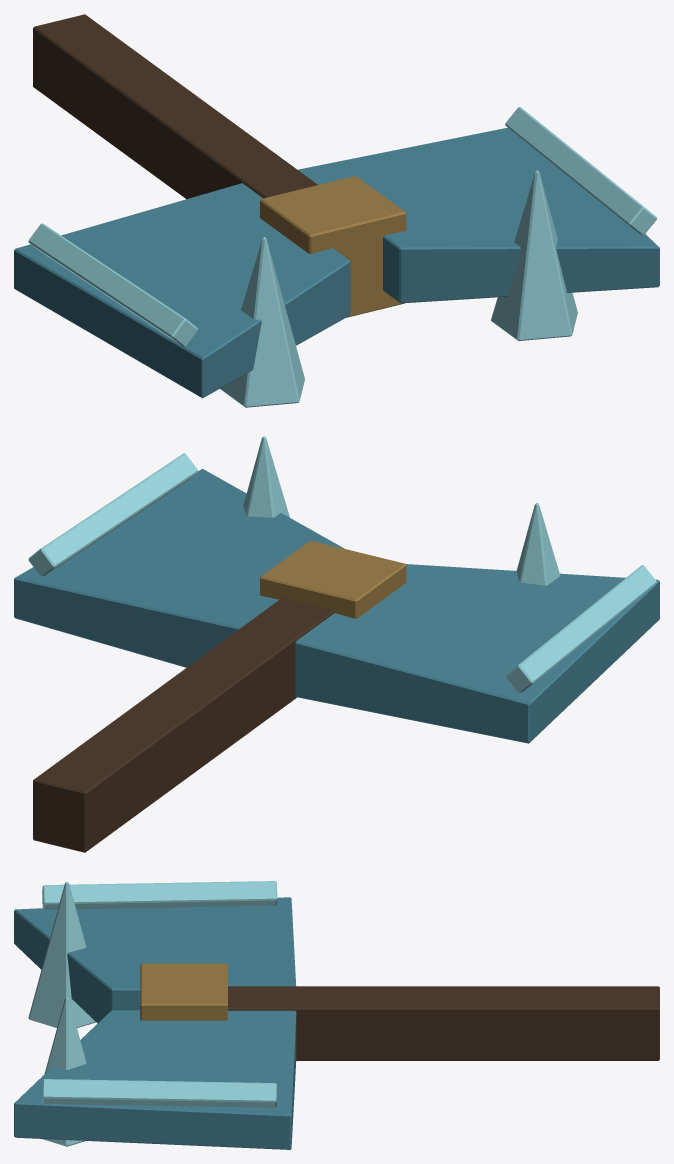
The model's file is guardian_ice.glb.
3 views of the same model, one above another, from view 1: azimuth 30°, elevation 25°; view 2: azimuth 150°, elevation 25°; view 3: azimuth 270°, elevation 25° (orthographic). The views are drawn at different scales.
Parts seen in each view (by area): view 1: weapon.015; view 2: weapon.015; view 3: weapon.015.
Boxes of the visible parts, <box> form: weapon.015: <box>14,14,659,407</box>; weapon.015: <box>14,436,659,852</box>; weapon.015: <box>14,881,659,1149</box>.
Bounding box in the file's own units: 1.06 × 0.3 × 1.32.
